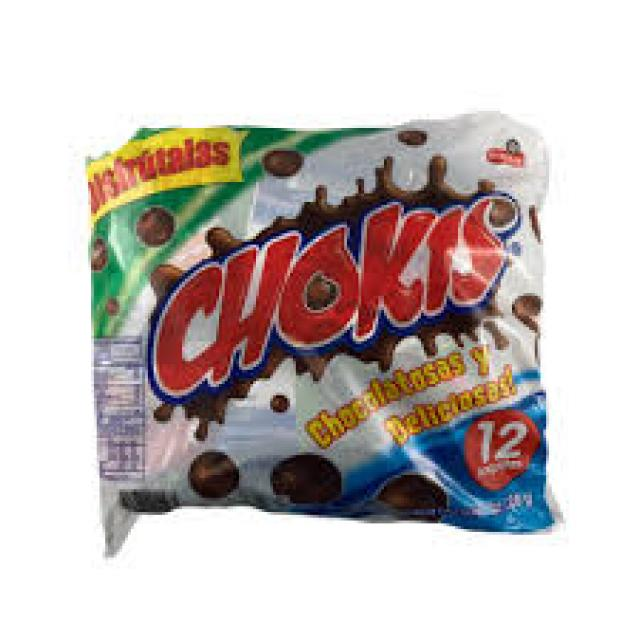Paquete: (73, 105, 558, 565)
